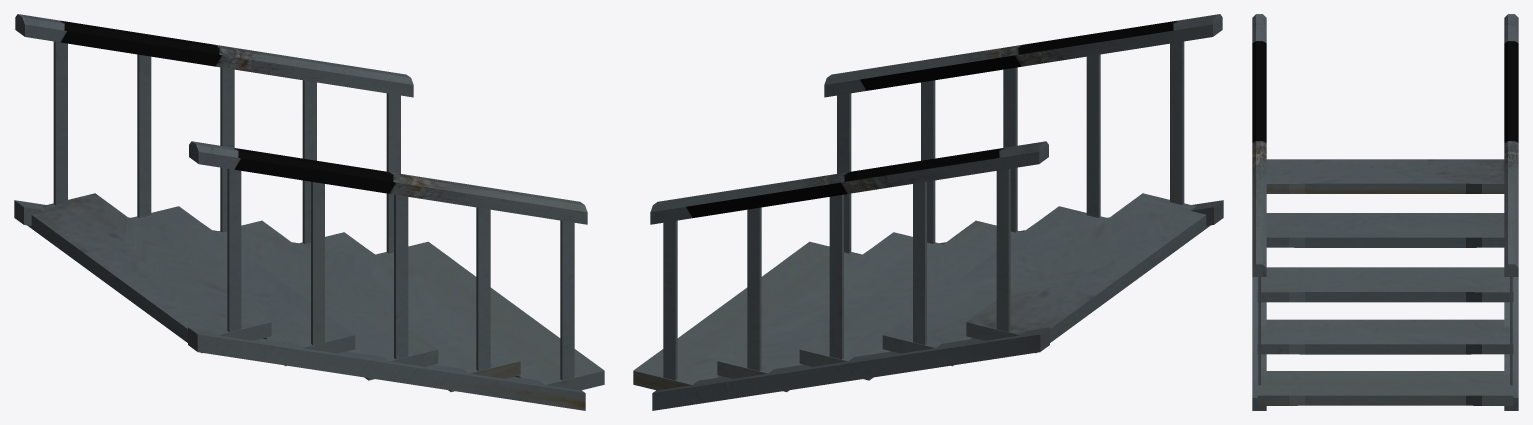
File: stair_00.FBX
3 renders of one model, left to right at view 1: azimuth 30°, elevation 25°; view 2: azimuth 150°, elevation 25°; view 3: azimuth 270°, elevation 25°, orthographic. The views are drawn at different scales.
Visible parts, largest first — view 1: stairs_small_no_emmision; view 2: stairs_small_no_emmision; view 3: stairs_small_no_emmision.
Part boxes in pixels (x1,y1,x2,y2): stairs_small_no_emmision: (14, 14, 604, 410); stairs_small_no_emmision: (633, 14, 1223, 410); stairs_small_no_emmision: (1252, 14, 1518, 410).
Size of the model in its own units: 8.13 by 6.79 by 6.29.
